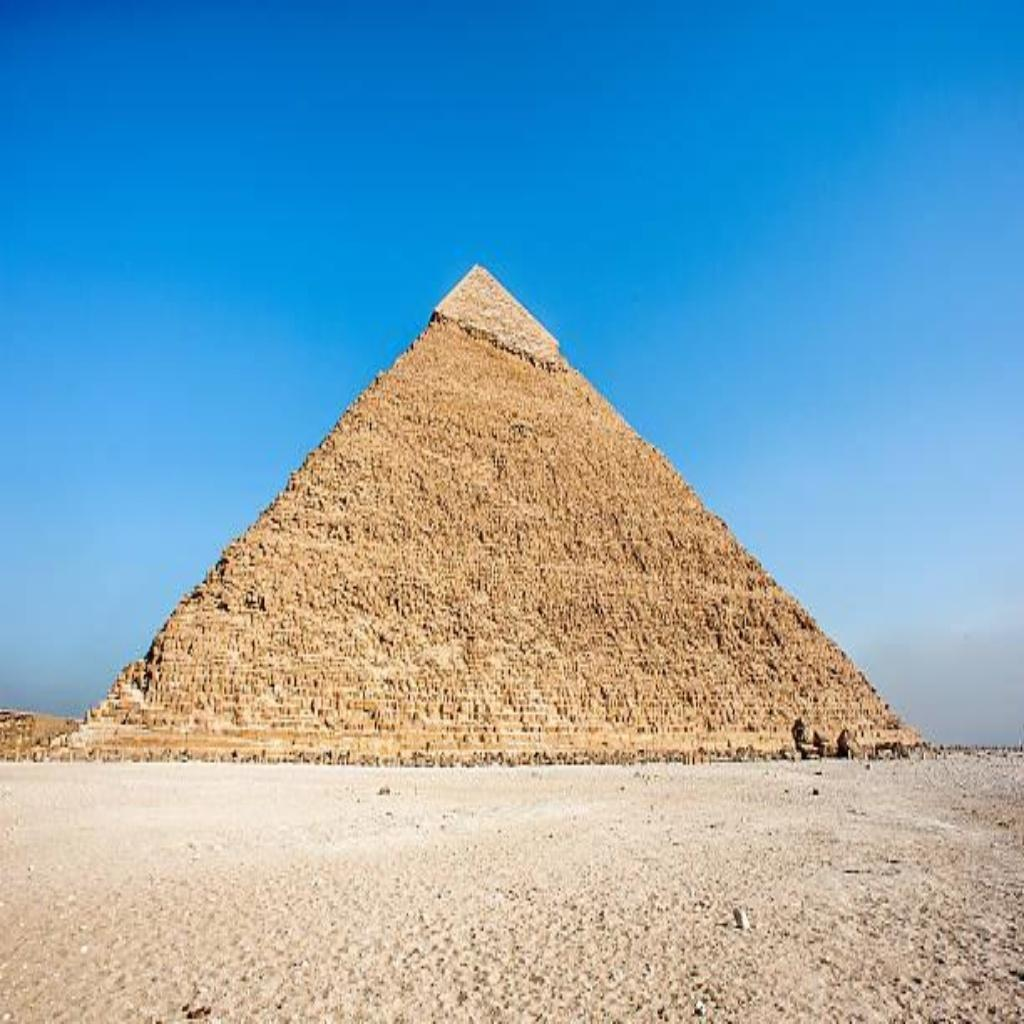Great Pyramids of Giza: (38, 256, 936, 764)
